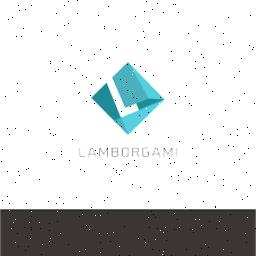l: (96, 73, 144, 127)
